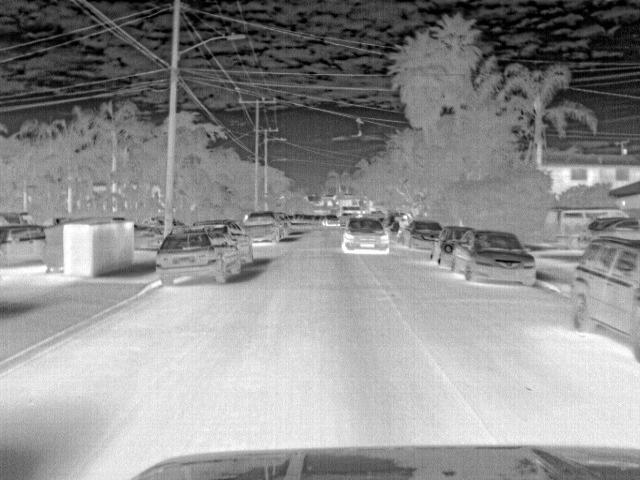car: (568, 238, 638, 354), (448, 228, 536, 290), (157, 230, 243, 284), (543, 208, 629, 246), (191, 219, 253, 265), (1, 224, 51, 267), (429, 226, 475, 267), (403, 215, 443, 256), (345, 217, 390, 252), (241, 214, 284, 246), (594, 218, 640, 238), (322, 215, 341, 227)
person: (395, 215, 411, 236)
